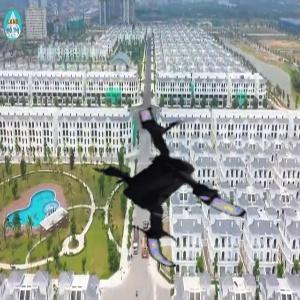drone: (75, 92, 255, 272)
